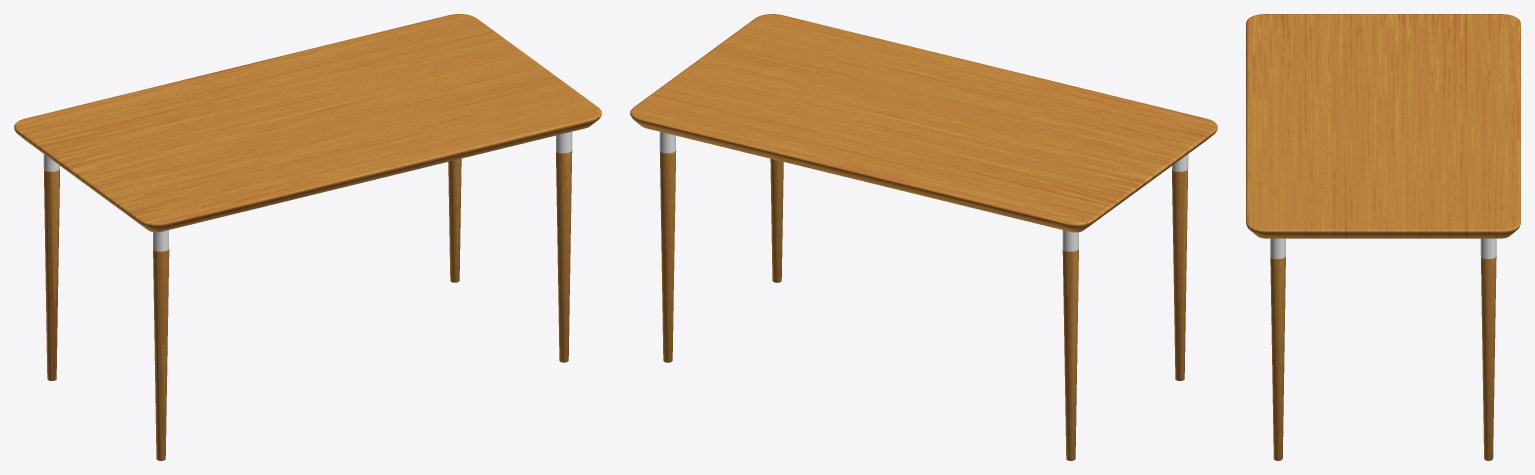
3 renders of one model, left to right at view 1: azimuth 30°, elevation 25°; view 2: azimuth 150°, elevation 25°; view 3: azimuth 270°, elevation 25°, orthographic. The views are drawn at different scales.
Visible parts, largest first — view 1: Cube, Cylinder.001, Cylinder; view 2: Cube, Cylinder.001, Cylinder; view 3: Cube, Cylinder.001, Cylinder.
Boxes of the visible parts, x1,y1,x2,y2 form: Cube: (14, 14, 601, 232); Cylinder.001: (44, 150, 572, 460); Cylinder: (43, 131, 572, 251); Cube: (630, 14, 1217, 232); Cylinder.001: (660, 151, 1187, 460); Cylinder: (659, 132, 1188, 251); Cube: (1246, 14, 1520, 238); Cylinder.001: (1270, 256, 1496, 460); Cylinder: (1270, 238, 1496, 259).
Size of the model in its own units: 1.4 by 0.7303 by 0.7503.
Materials: 1 (1 with a texture image).
